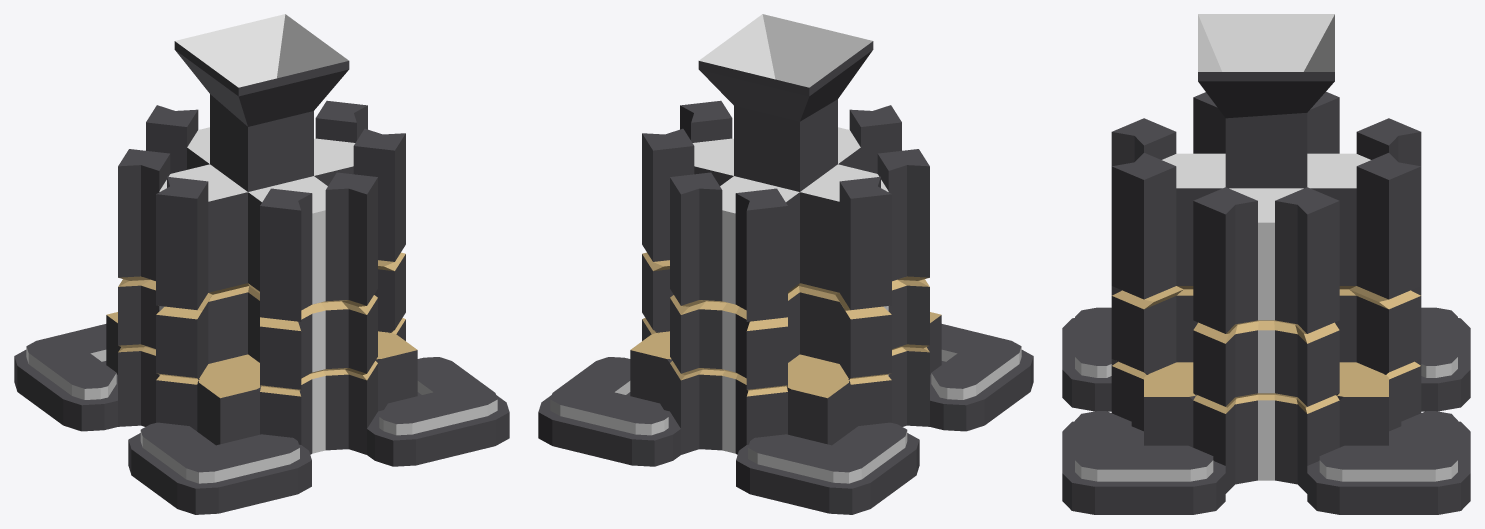
The model's file is Ametralladora1 (1).fbx.
3 renders of one model, left to right at view 1: azimuth 30°, elevation 25°; view 2: azimuth 150°, elevation 25°; view 3: azimuth 270°, elevation 25°, orthographic. The views are drawn at different scales.
Parts seen in each view (by area): view 1: Ametralladora1; view 2: Ametralladora1; view 3: Ametralladora1.
Boxes of the visible parts, <box> form: Ametralladora1: <box>14,14,509,514</box>; Ametralladora1: <box>538,14,1033,514</box>; Ametralladora1: <box>1062,14,1470,514</box>.
Bounding box in the file's own units: 200 × 209 × 200.
